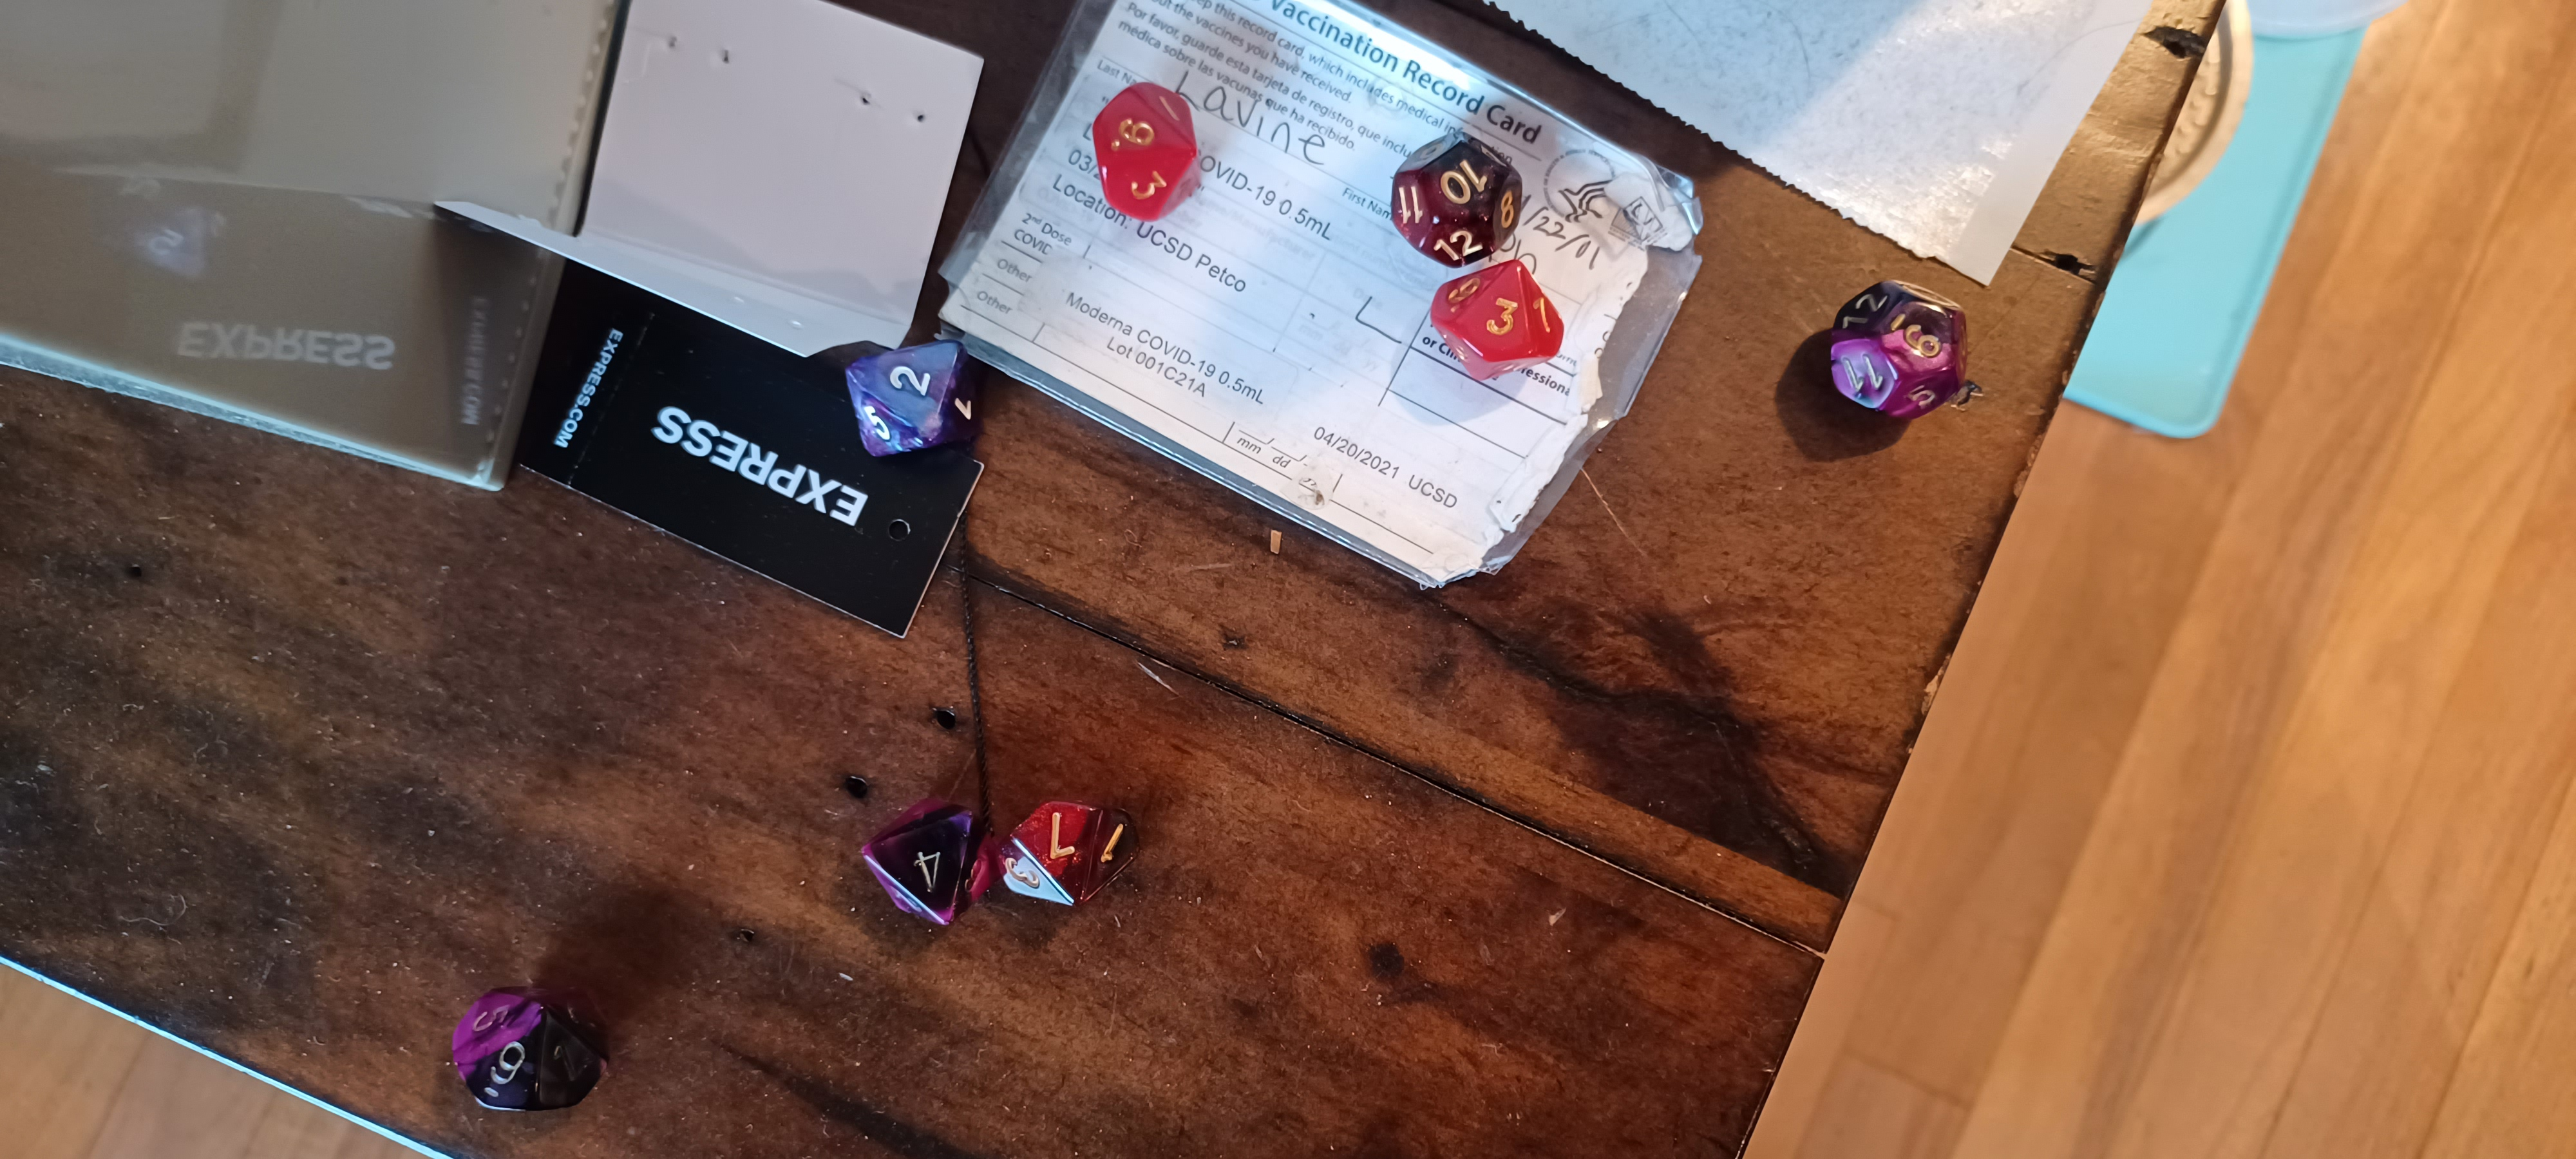four: (844, 770, 1019, 949)
nine: (1797, 259, 2014, 447), (429, 965, 632, 1136), (1045, 64, 1227, 233)
seven: (986, 762, 1153, 936)
ten: (1370, 117, 1567, 277)
three: (1408, 258, 1589, 389)
two: (816, 310, 1019, 484)
